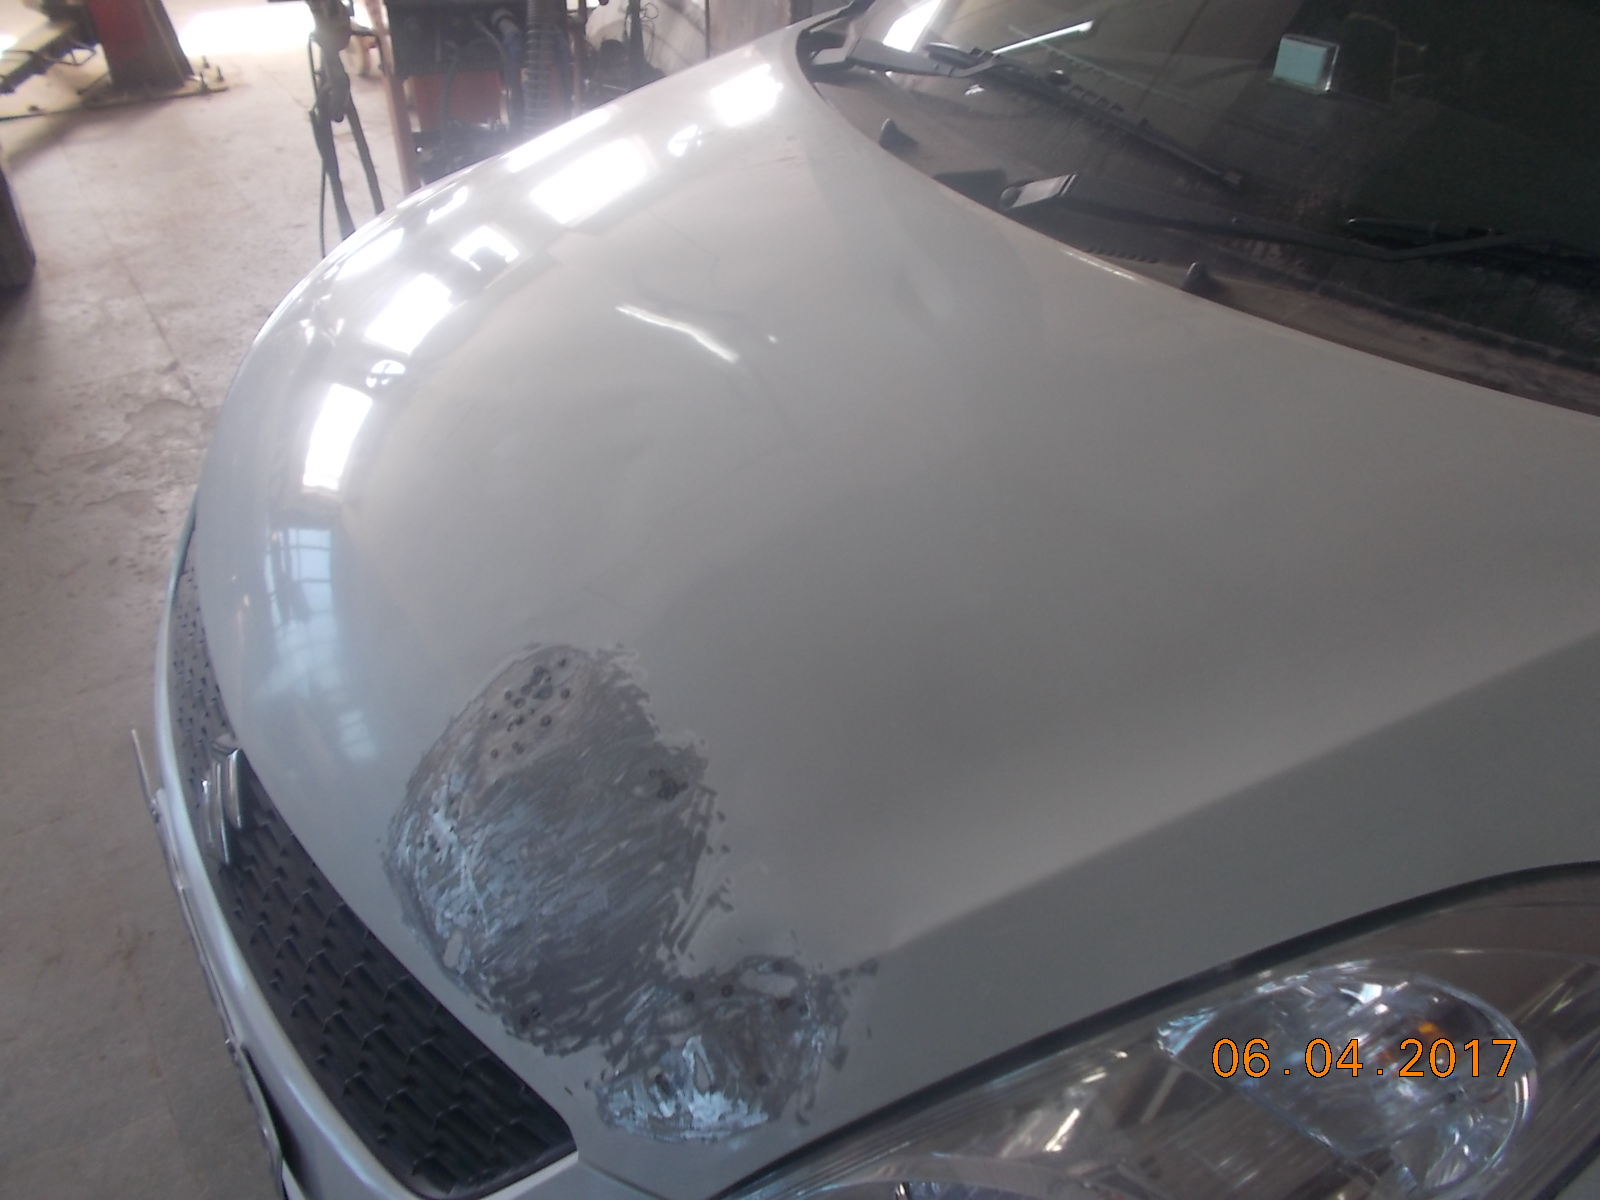Dent: (412, 659, 698, 989)
